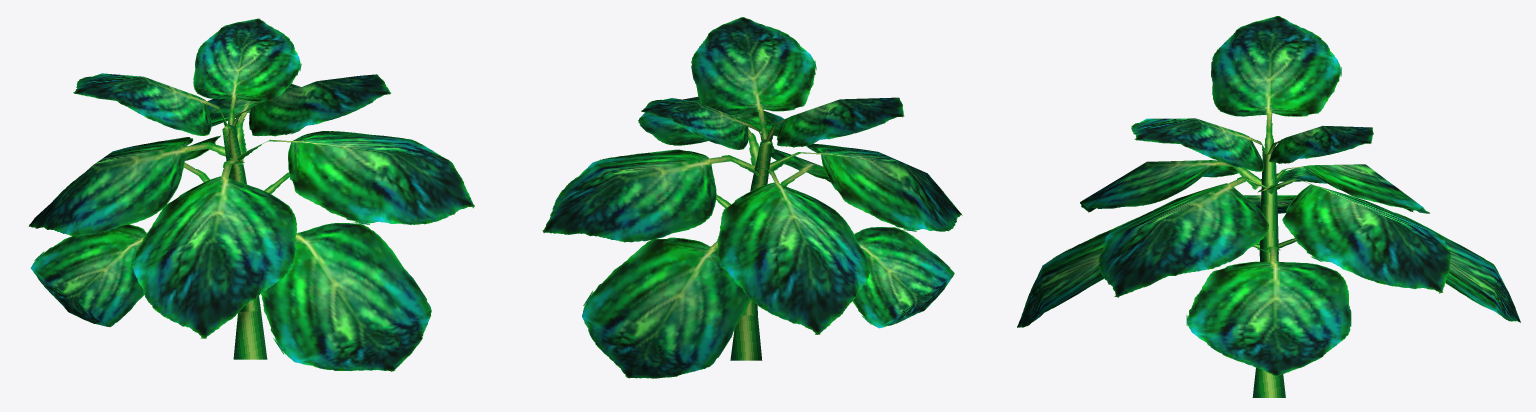
Rendered from LVL_RIV_BROADLEAF.fbx.
3 renders of one model, left to right at view 1: azimuth 30°, elevation 25°; view 2: azimuth 150°, elevation 25°; view 3: azimuth 270°, elevation 25°, orthographic. The views are drawn at different scales.
Visible parts, largest first — view 1: LVL_RIV_BROADLEAF; view 2: LVL_RIV_BROADLEAF; view 3: LVL_RIV_BROADLEAF.
Boxes of the visible parts, left/top/right/bottom form: LVL_RIV_BROADLEAF: left=28, top=18, right=474, bottom=371; LVL_RIV_BROADLEAF: left=542, top=17, right=962, bottom=378; LVL_RIV_BROADLEAF: left=1017, top=16, right=1520, bottom=397.
Bounding box in the file's own units: 17397 × 12795 × 19785.
2 materials, 2 textured.
